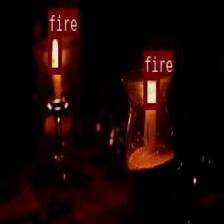fire: (47, 31, 61, 73), (143, 72, 158, 108)
